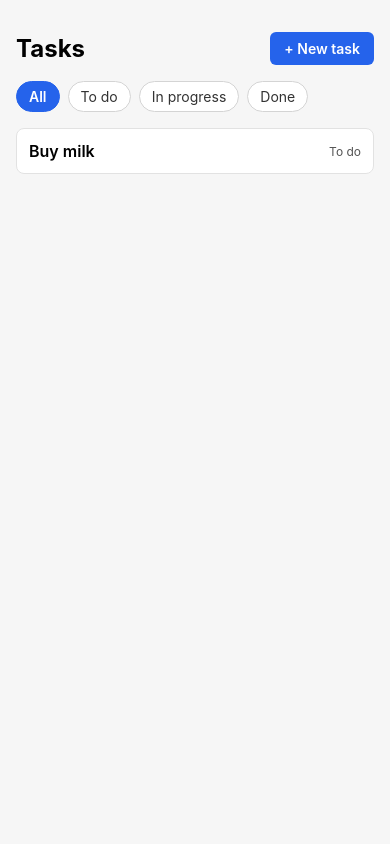
Scenario: TasksScreen › shows validation details under the field
Click the text "Buy milk" at [62, 151], box top-left (29, 141), bottom-right (95, 161)
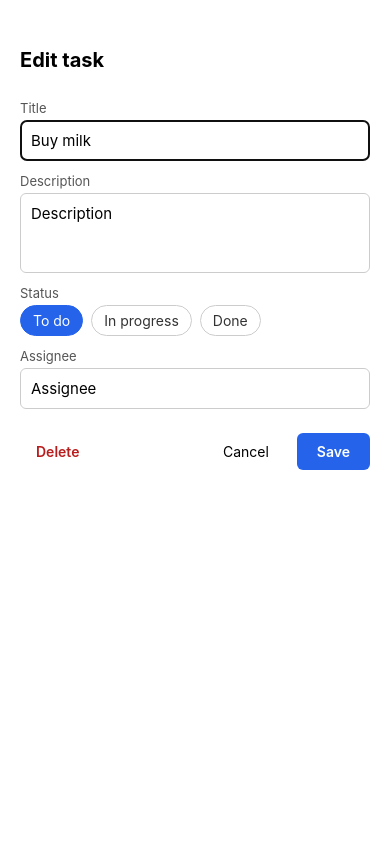
Now the text "Edit task" is shown, box top-left (20, 48), bottom-right (104, 72)
Click the text "Save" at [333, 452], box top-left (317, 443), bottom-right (350, 460)
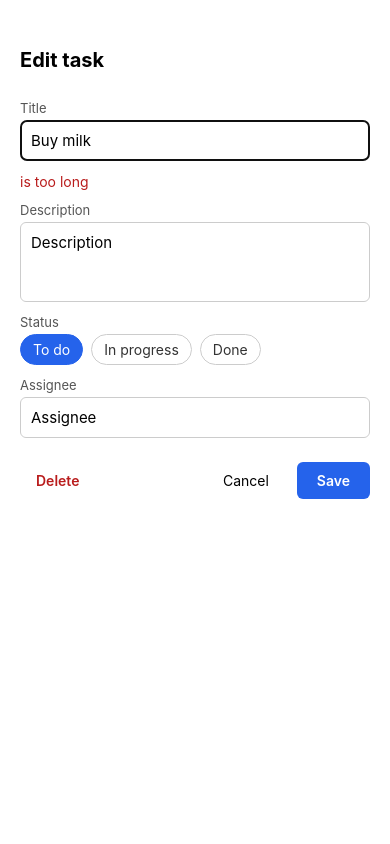
Now the text "is too long" is shown, box top-left (20, 173), bottom-right (88, 190)
